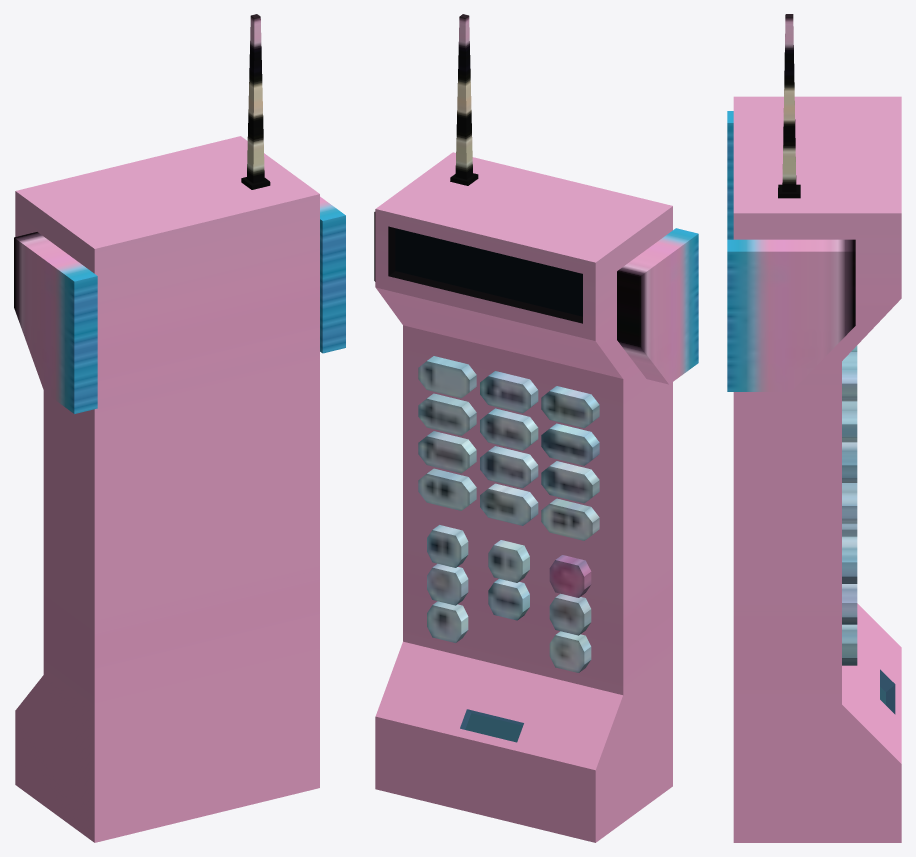
Rendered from CellPhone_Retro.glb.
The picture shows the model from 3 angles, left to right: view 1: azimuth 30°, elevation 25°; view 2: azimuth 150°, elevation 25°; view 3: azimuth 270°, elevation 25°; orthographic projection. The views are drawn at different scales.
Visible parts, largest first — view 1: CellPhone_Retro; view 2: CellPhone_Retro; view 3: CellPhone_Retro.
Boxes of the visible parts, left/top/right/bottom form: CellPhone_Retro: left=14, top=14, right=345, bottom=842; CellPhone_Retro: left=374, top=14, right=698, bottom=842; CellPhone_Retro: left=727, top=14, right=901, bottom=842.
Bounding box in the file's own units: 1.05 × 2.82 × 0.5508.
Materials: 2 (2 with a texture image).
